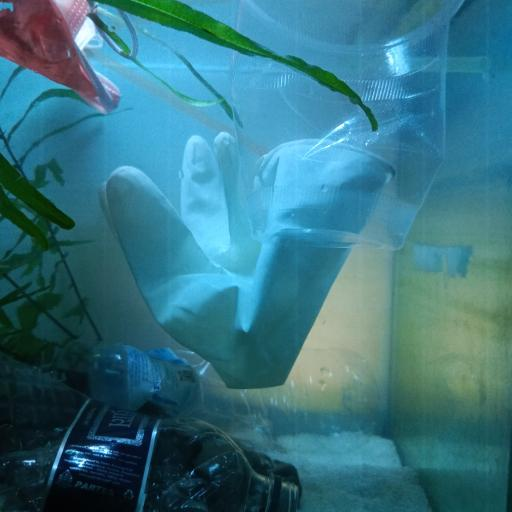glove: (100, 130, 395, 390)
mask: (0, 0, 123, 115)
plastic_bottle: (0, 349, 299, 512), (40, 336, 376, 460)
plastic_cup: (228, 0, 462, 253)
plastic_straw: (82, 45, 262, 152)
